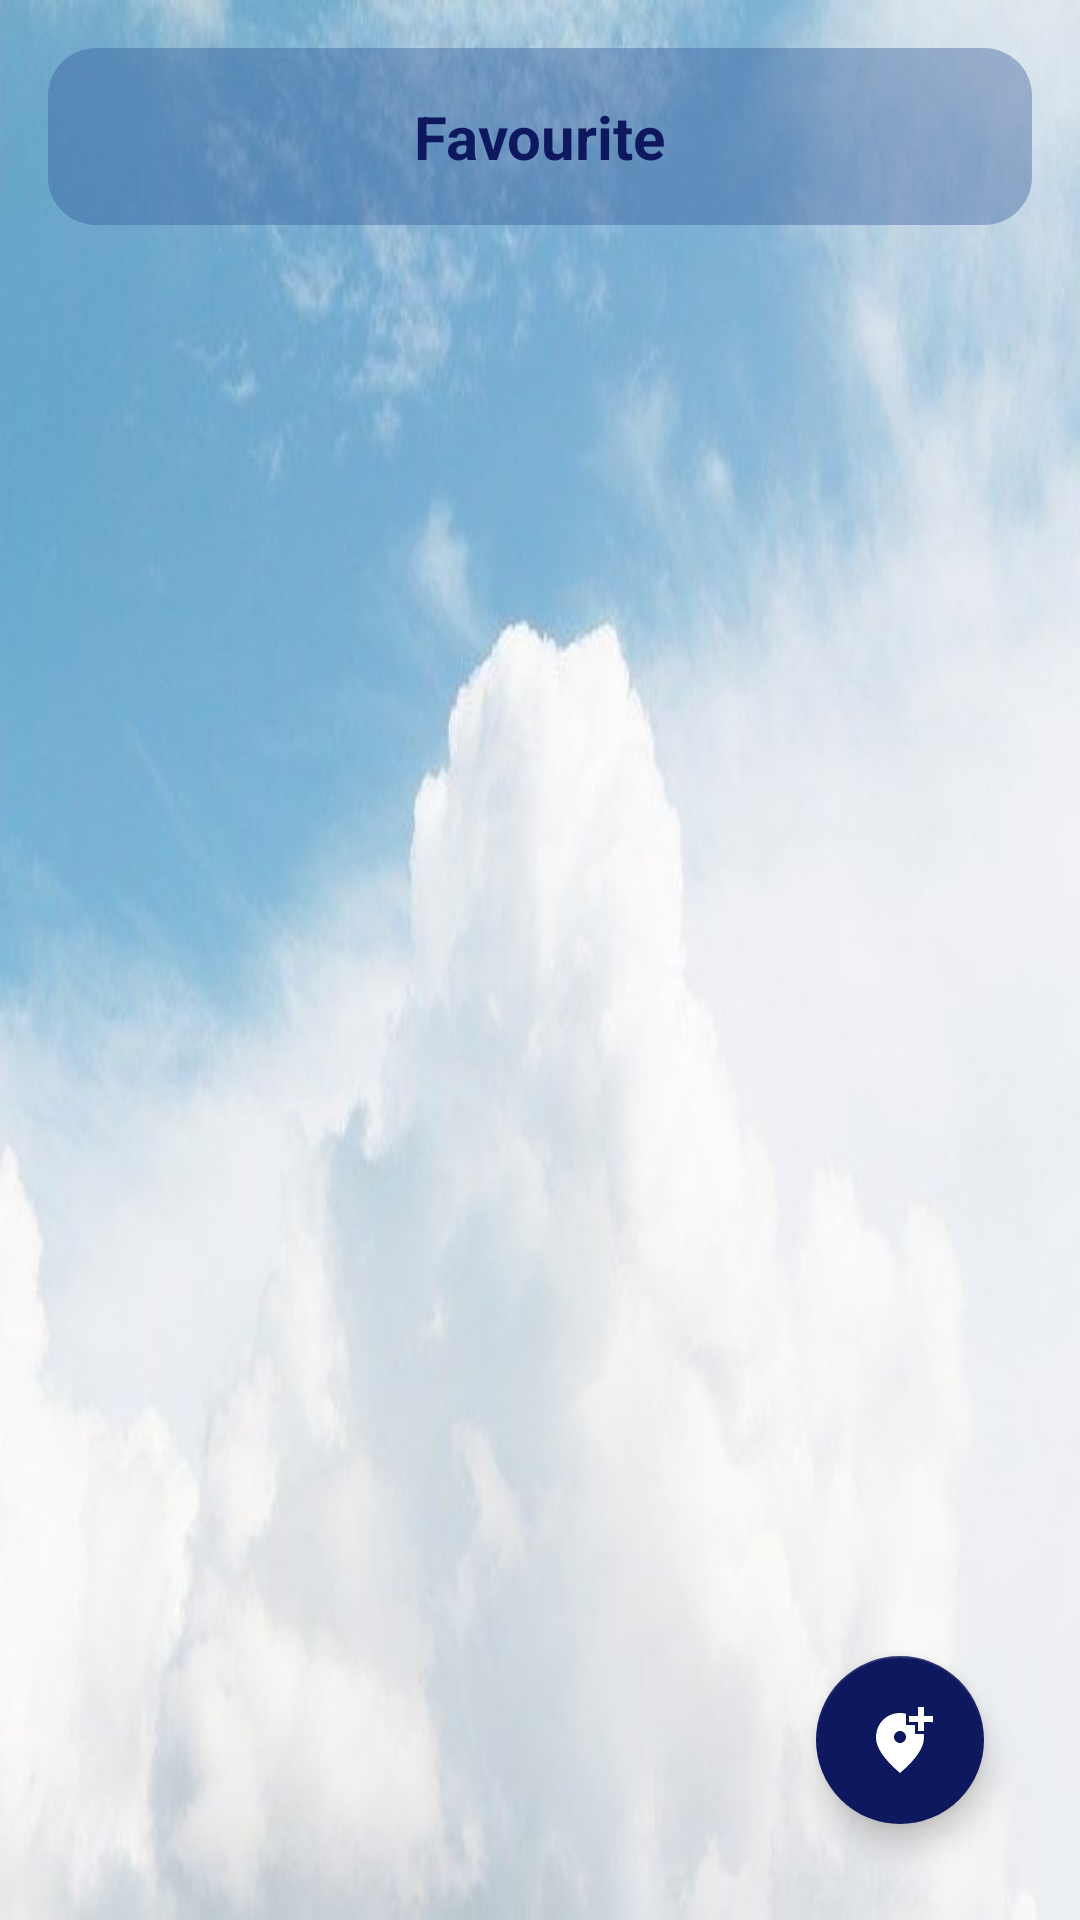

Icon bounding boxes for this 1080w x 1920h phone screenshot, format bbox(x1, y1, x2, y2):
add location: bbox(816, 1656, 984, 1824)
